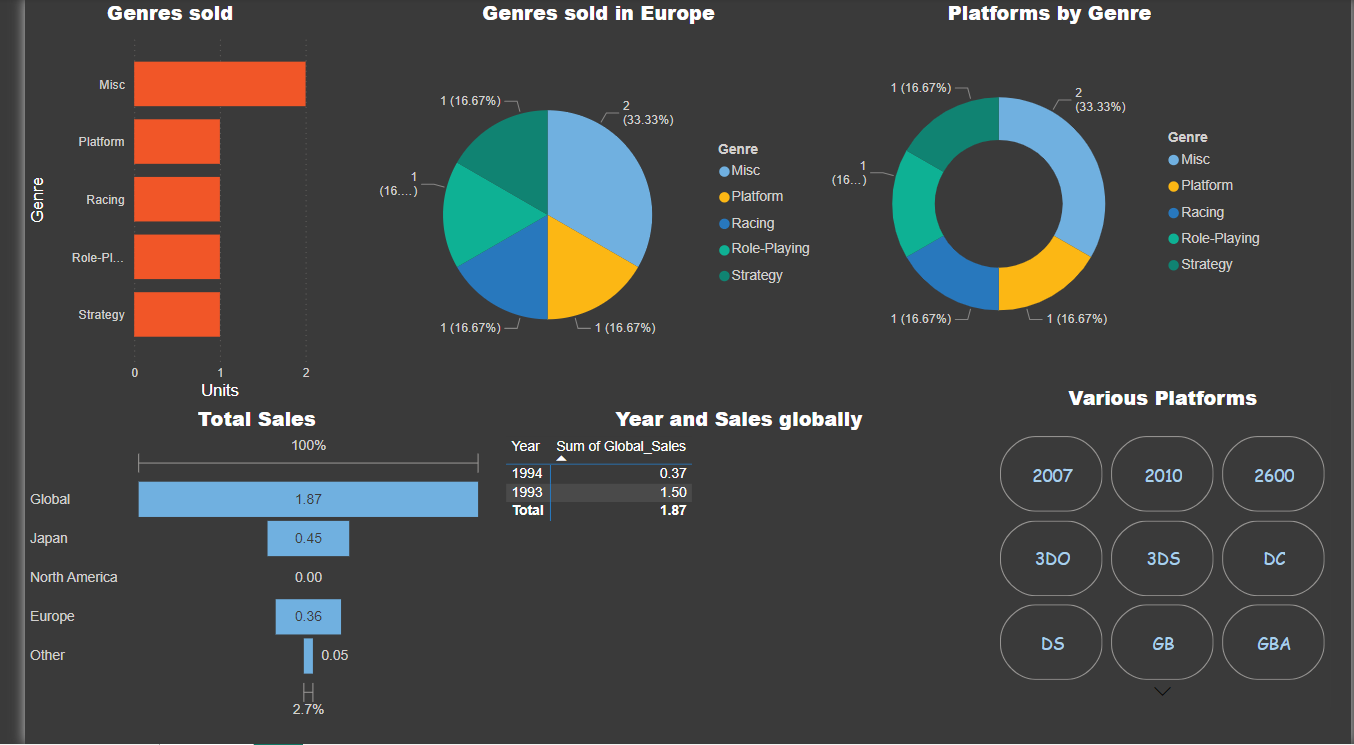

What the dashboard file says about the page in this screenshot:
{"tool":"powerbi","page":{"name":"Page 1","canvas":[1280,720],"ordinal":0},"visuals":[{"type":"barChart","title":"Genres sold","fields":{"Category":["vgsales.Genre"],"Y":["CountNonNull(vgsales.Genre)"]},"box":[0,0,280,392.5],"z":0},{"type":"pieChart","title":"Genres sold in Europe","fields":{"Category":["vgsales.Genre"],"Y":["CountNonNull(vgsales.EU_Sales)"]},"box":[334.8,0,436.4,392.5],"z":1000},{"type":"donutChart","title":"Platforms by Genre","fields":{"Y":["CountNonNull(vgsales.Platform)"],"Category":["vgsales.Genre"]},"box":[772.5,0,433.8,371.2],"z":2000},{"type":"advancedSlicerVisual","fields":{"Values":["games.Platform"]},"box":[936.2,371.2,323.8,312.5],"z":3000},{"type":"funnel","title":"Total Sales","fields":{"Y":["Sum(games.Global_Sales)","Sum(games.JP_Sales)","Sum(games.NA_Sales)","Sum(games.EU_Sales)","Sum(games.Other_Sales)"]},"box":[0,392.5,447.5,308.8],"z":4000},{"type":"pivotTable","title":"Year and Sales globally","fields":{"Rows":["games.Year"],"Values":["Sum(games.Global_Sales)"]},"box":[460,392.5,458.8,308.8],"z":5000}]}

Visuals, with their boxes in screenshot pixels (x1, y1, x2, y2), scaled from the page's 1280x720 canvas onto the 1354x745 screenshot:
"Genres sold" barChart: <region>0, 0, 296, 406</region>
"Genres sold in Europe" pieChart: <region>354, 0, 816, 406</region>
"Platforms by Genre" donutChart: <region>817, 0, 1276, 384</region>
advancedSlicerVisual - games.Platform: <region>990, 384, 1333, 707</region>
"Total Sales" funnel: <region>0, 406, 473, 726</region>
"Year and Sales globally" pivotTable: <region>487, 406, 972, 726</region>
